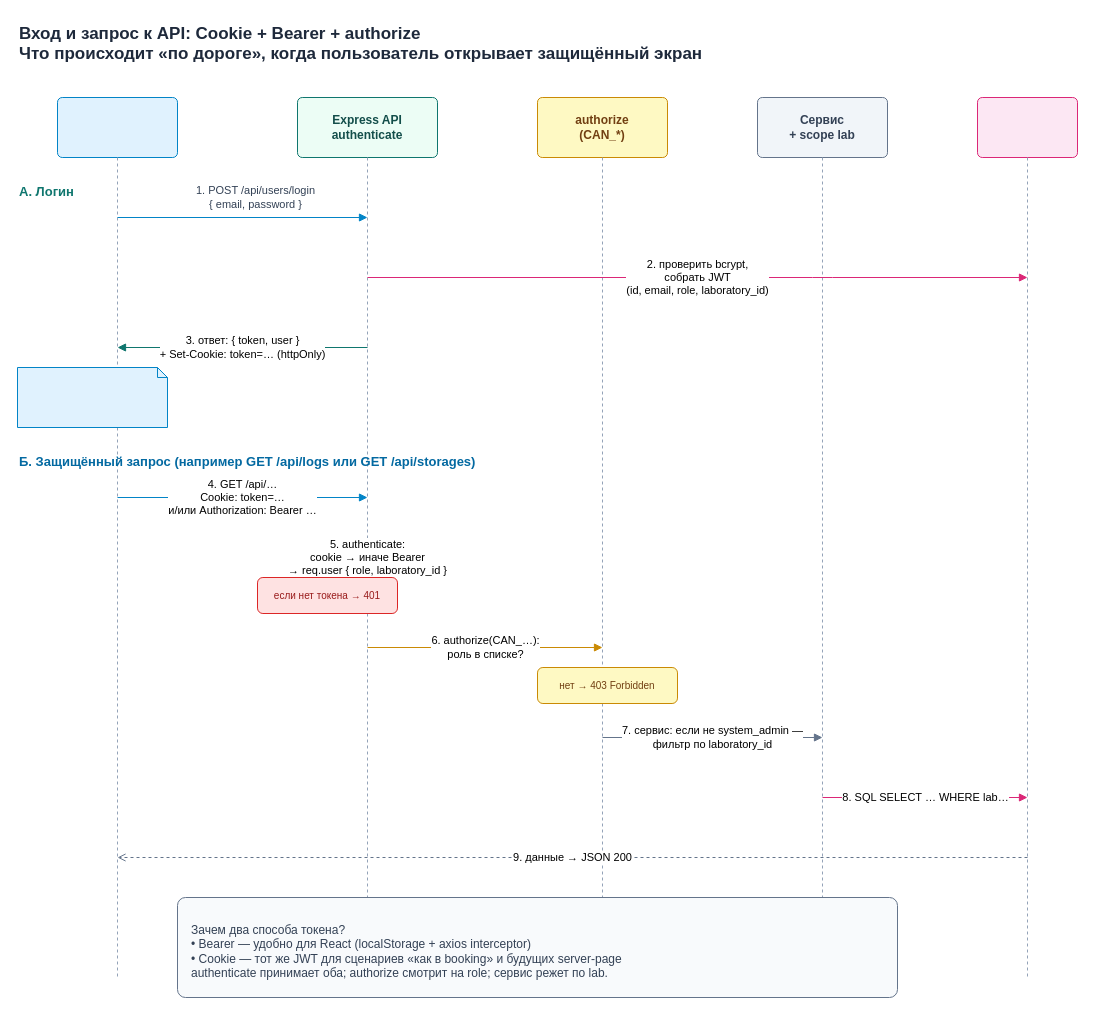
This 1095x1015 diagram has some shape labels left out. The centre of each missing label's shape, as x and y in pixels:
"MySQL" belongs at pixel 1027 127.
"Браузер (React)" belongs at pixel 117 127.
"Клиент кладёт token в localStorage (Bearer)" belongs at pixel 92 397.
